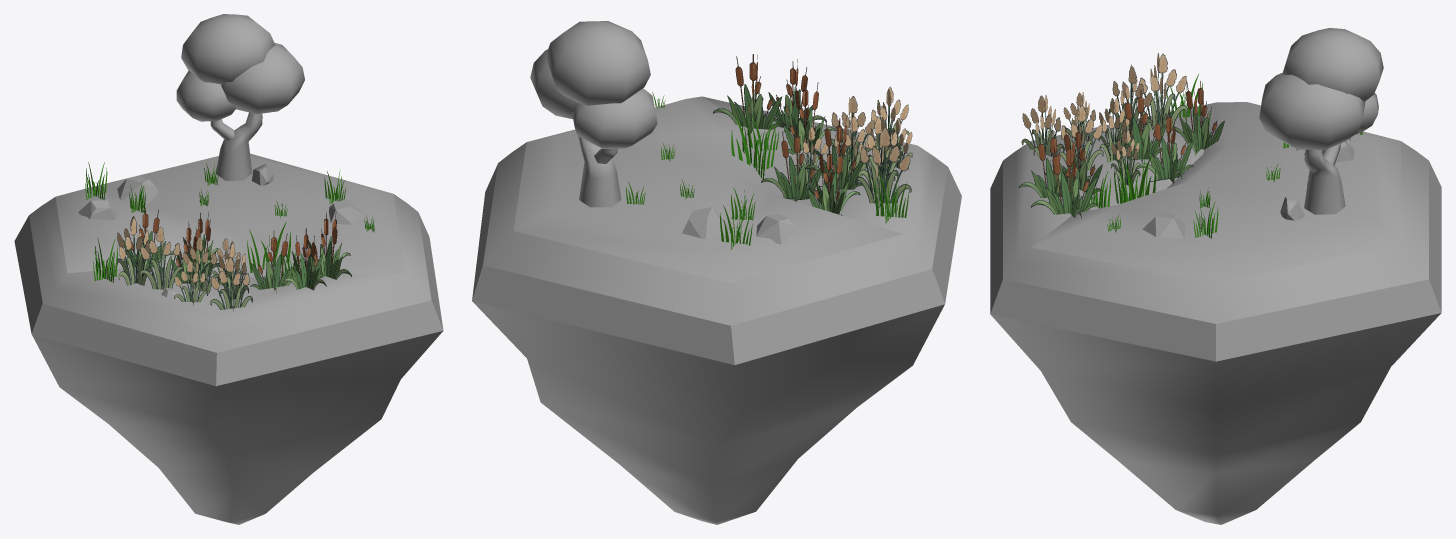
The model's file is Basic_Wetland1.fbx.
3 renders of one model, left to right at view 1: azimuth 30°, elevation 25°; view 2: azimuth 150°, elevation 25°; view 3: azimuth 270°, elevation 25°, orthographic. The views are drawn at different scales.
Visible parts, largest first — view 1: Basic_Wetland1_mod; view 2: Basic_Wetland1_mod; view 3: Basic_Wetland1_mod.
Part boxes in pixels (x1,y1,x2,y2): Basic_Wetland1_mod: (14, 14, 443, 524); Basic_Wetland1_mod: (472, 21, 961, 524); Basic_Wetland1_mod: (990, 28, 1441, 524).
Size of the model in its own units: 11.53 by 12.55 by 9.99.
